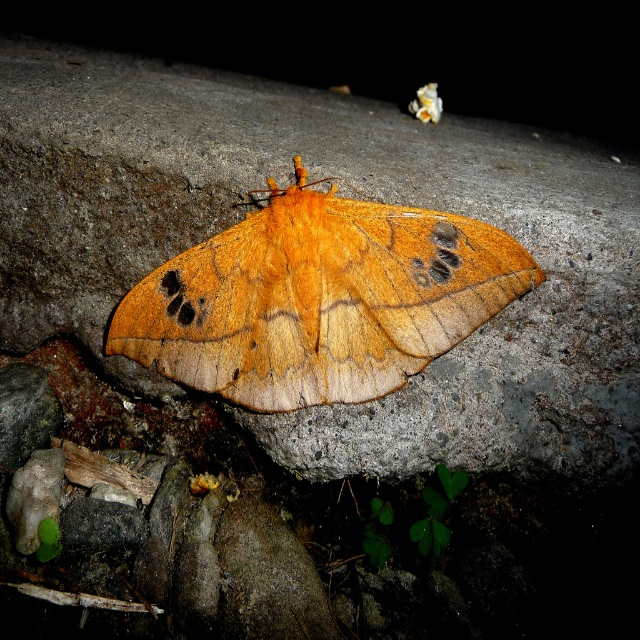Butterfly: (150, 182, 567, 445)
